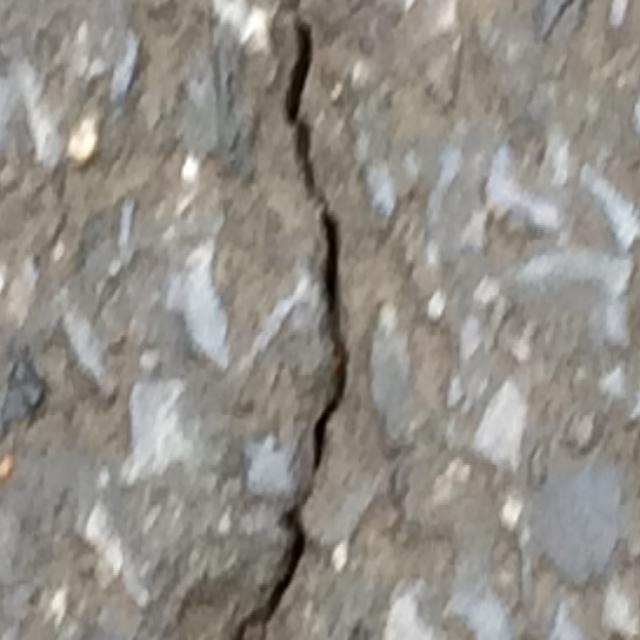Longitudinal: (245, 0, 354, 640)
